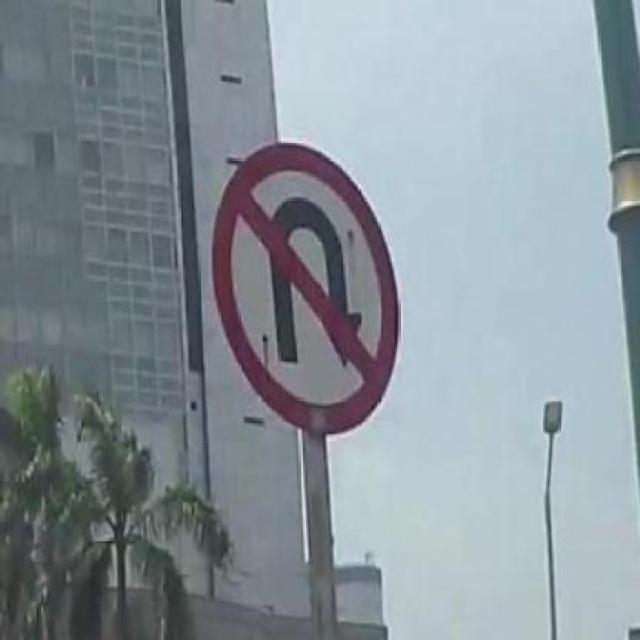u turn prohibited: (209, 137, 409, 441)
